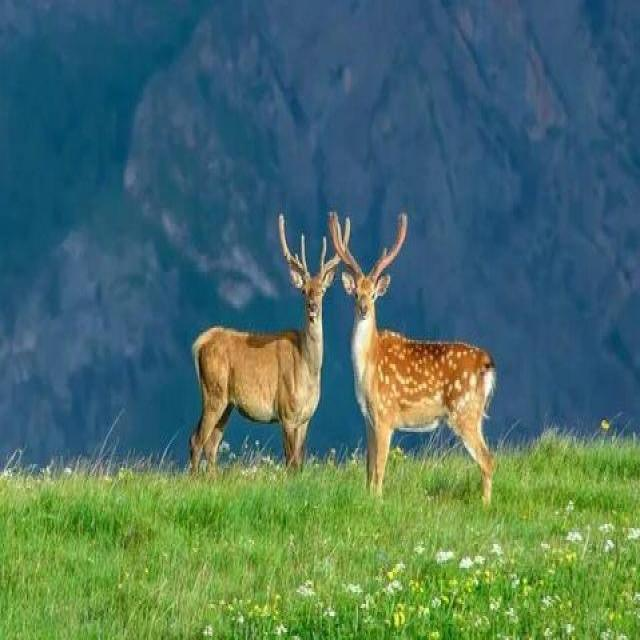deer: (150, 210, 370, 513), (336, 232, 536, 555)
